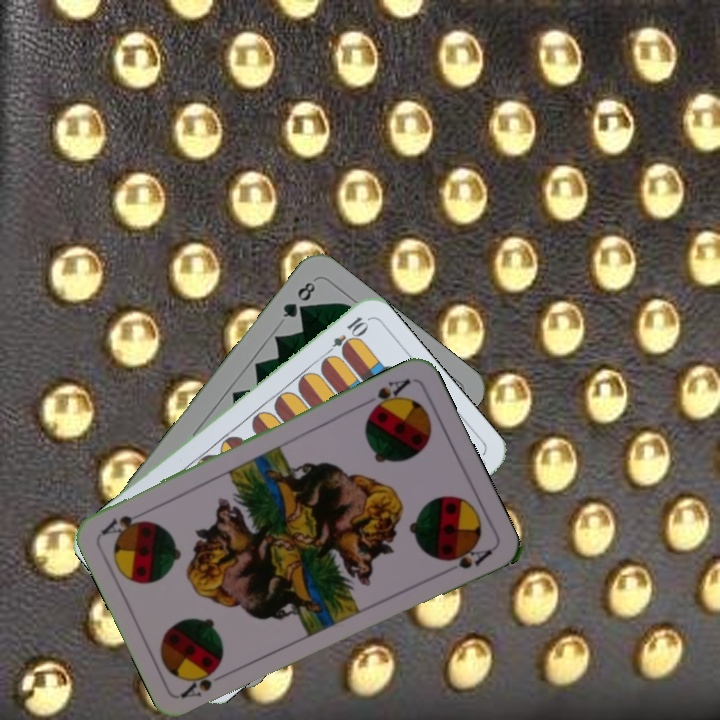E10: (320, 312, 370, 360)
G8: (278, 277, 319, 321)
SA: (359, 374, 413, 416), (177, 667, 219, 701)
